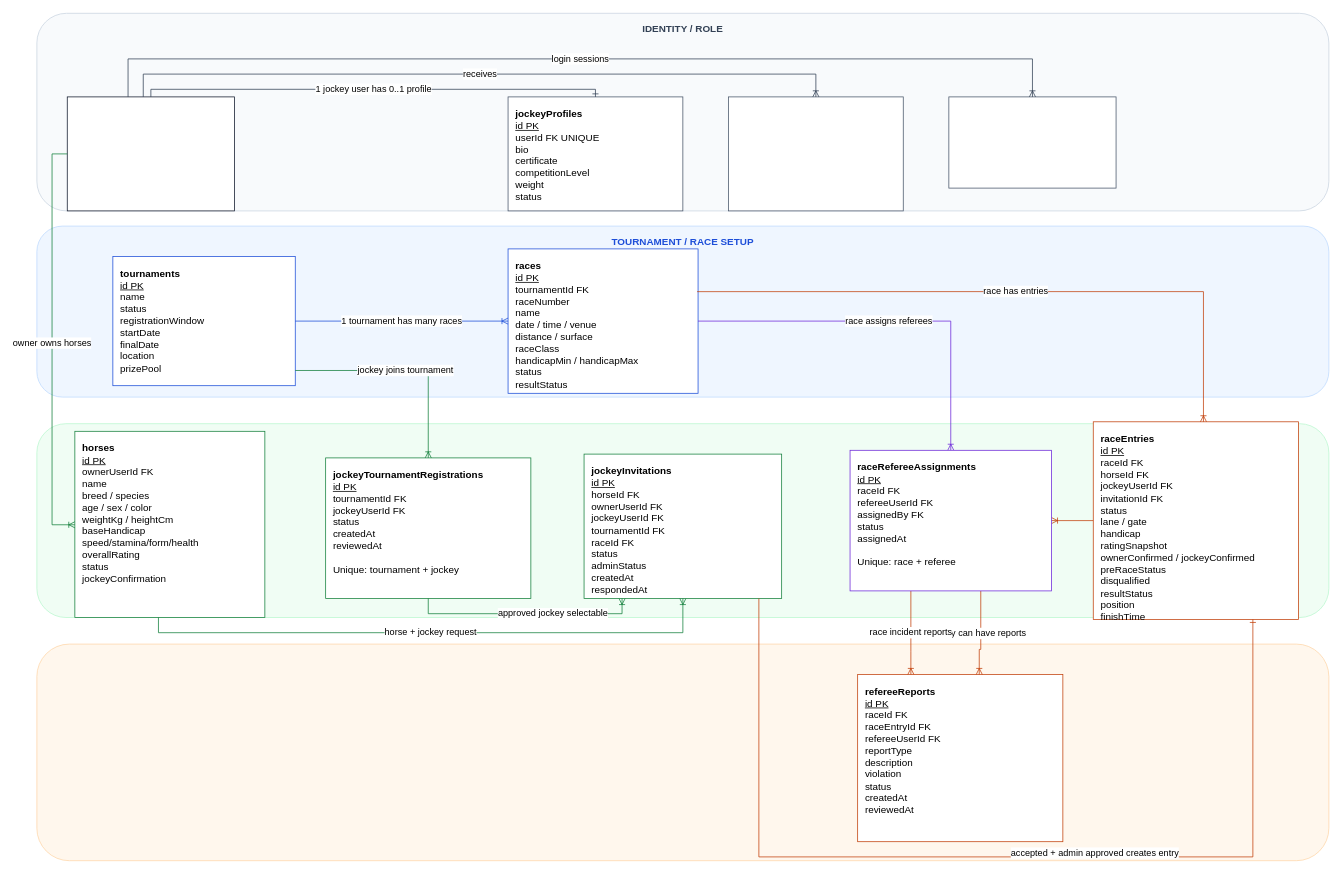
The diagram is 1342 pixels wide and 876 high, and some of its shapes have lost their labels. The shapes that lost their labels are listed below. From the top down, each one's box as (x1, y1, x2, y2) in pixels, then its label:
(66, 96, 234, 211): users id PK name email UNIQUE password role status
(728, 96, 903, 211): notifications id PK userId FK title message isRead createdAt
(948, 96, 1116, 188): sessions token PK userId FK createdAt
(36, 423, 1329, 618): REGISTRATION / APPROVAL FLOW
(36, 643, 1329, 861): RACE OPERATION / RESULT / REFEREE
